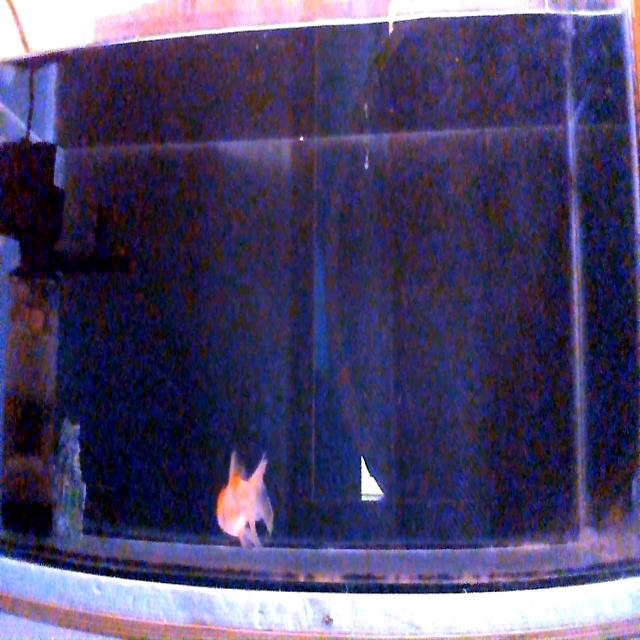fish: (215, 448, 275, 548)
